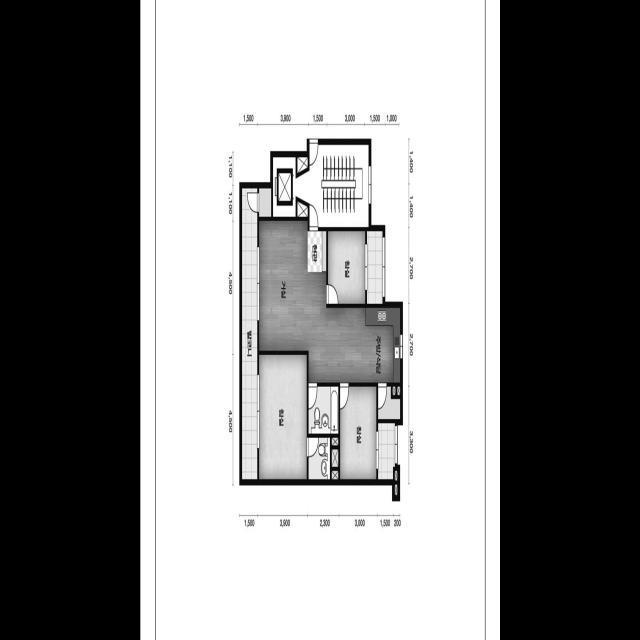background: (140, 0, 500, 640)
space_balconi: (241, 188, 257, 480), (366, 231, 382, 304), (377, 423, 395, 479)
space_bedroom: (258, 354, 307, 480), (339, 387, 376, 479), (328, 231, 365, 304)
space_elevator: (273, 157, 309, 217)
space_front: (307, 231, 326, 273)
space_kitchen: (326, 307, 400, 383)
space_living_room: (259, 221, 326, 383)
space_other: (377, 386, 400, 420), (259, 188, 271, 217), (297, 157, 307, 174), (297, 201, 307, 217), (331, 449, 338, 467), (331, 471, 338, 480), (331, 437, 338, 445), (394, 484, 397, 496), (394, 470, 397, 481), (392, 386, 395, 395), (397, 386, 400, 395)
space_staircase: (309, 144, 369, 228)
space_toilet: (308, 386, 338, 434), (308, 437, 330, 480)
